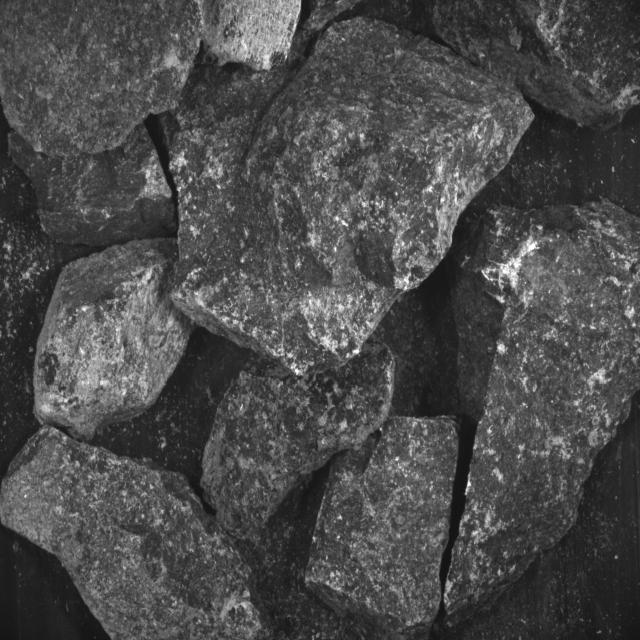Stones: (171, 18, 534, 376), (446, 202, 640, 623), (1, 427, 269, 640), (202, 343, 396, 539), (306, 417, 460, 639), (35, 240, 194, 441), (1, 1, 204, 158), (434, 1, 640, 131), (10, 124, 177, 246), (204, 1, 302, 71)
